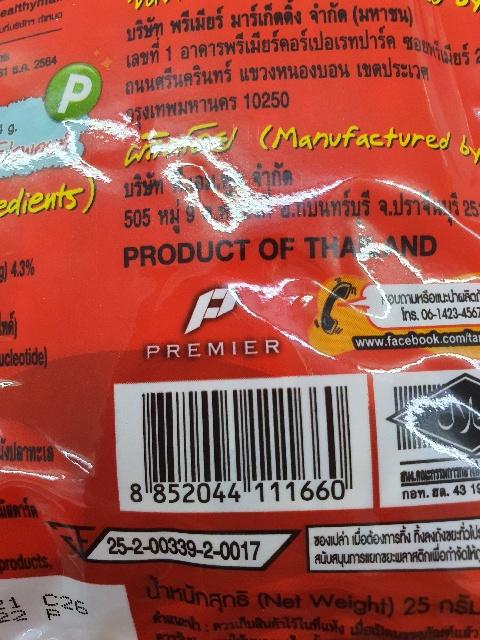Barcode: (112, 374, 369, 508)
